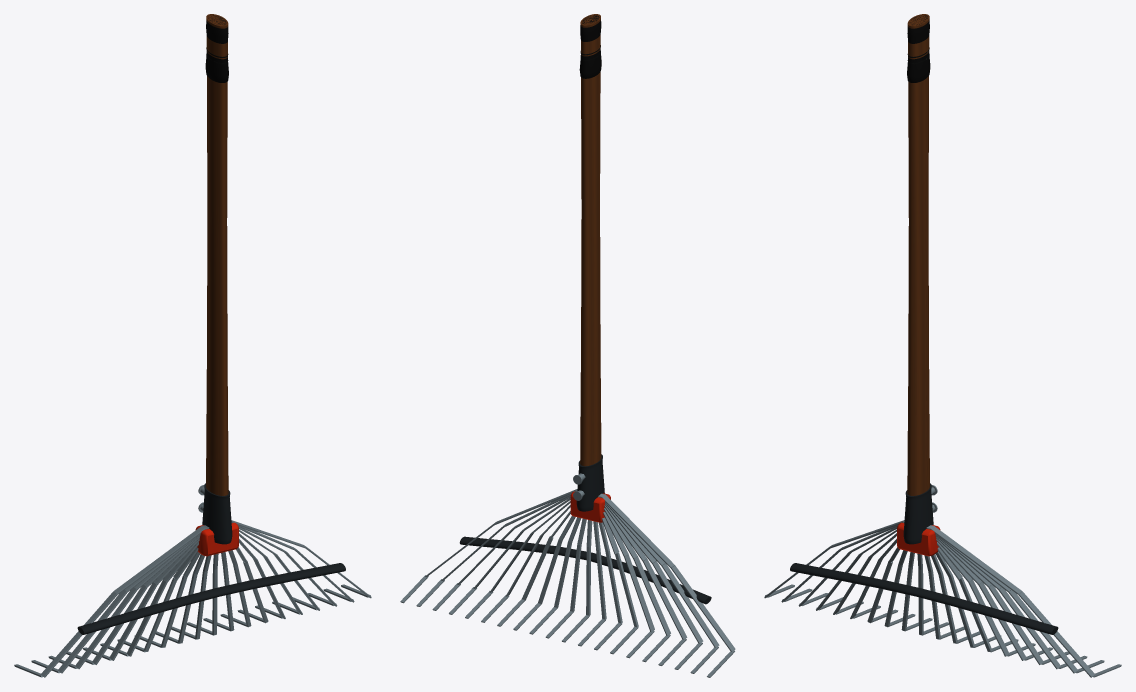
Rendered from WideRake.gltf.
The picture shows the model from 3 angles, left to right: view 1: azimuth 30°, elevation 25°; view 2: azimuth 150°, elevation 25°; view 3: azimuth 330°, elevation 25°; orthographic projection. The views are drawn at different scales.
Parts seen in each view (by area): view 1: WideRake__Body; view 2: WideRake__Body; view 3: WideRake__Body.
Part boxes in pixels (x1,y1,x2,y2): WideRake__Body: (14,14,371,677); WideRake__Body: (400,14,735,677); WideRake__Body: (764,14,1121,677).
Bounding box in the file's own units: 0.736 × 1.35 × 0.1903.
Materials: 1 (1 with a texture image).
